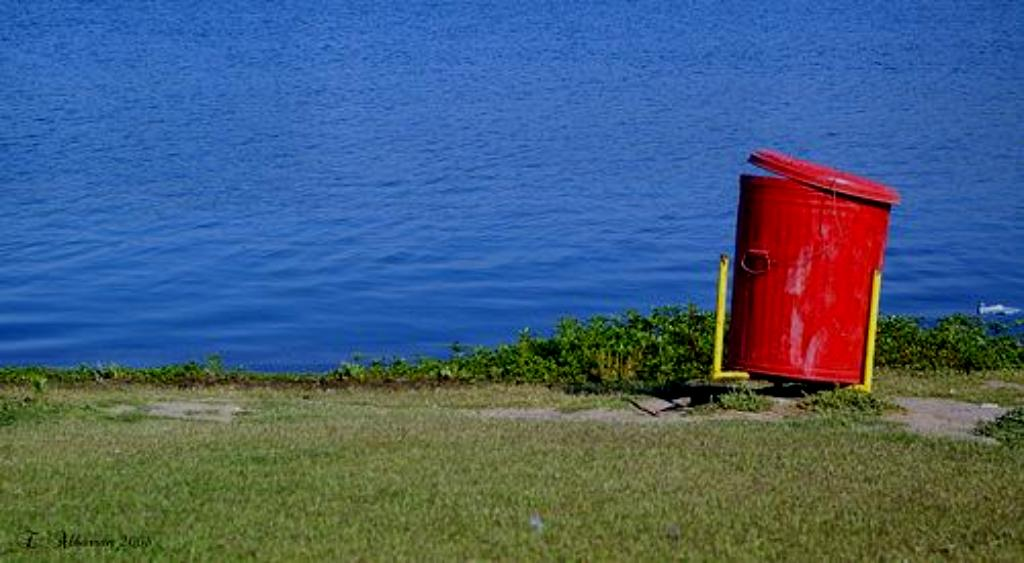dustbin: (719, 141, 899, 400)
